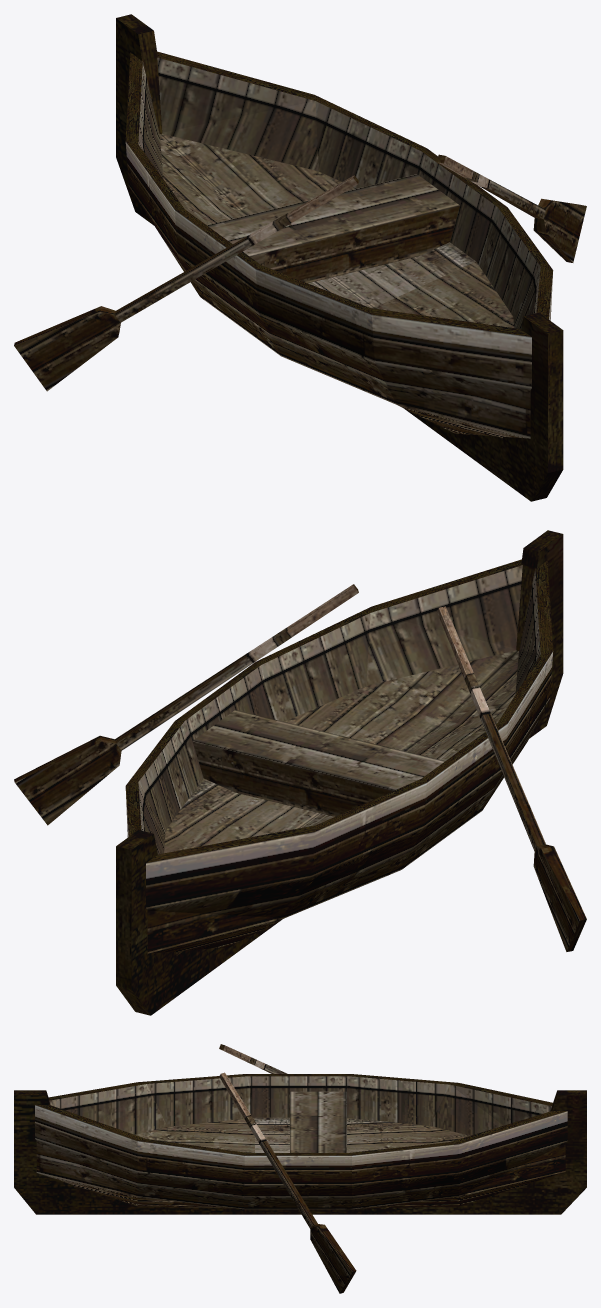
The model's file is celt_rowboat.dae.
3 views of the same model, one above another, from view 1: azimuth 30°, elevation 25°; view 2: azimuth 150°, elevation 25°; view 3: azimuth 270°, elevation 25° (orthographic). The views are drawn at different scales.
Visible parts, largest first — view 1: Cube; view 2: Cube; view 3: Cube.
Part boxes in pixels (x1,y1,x2,y2): Cube: (14,14,586,501); Cube: (14,530,586,1015); Cube: (14,1044,586,1293).
Size of the model in its own units: 8.29 by 3.19 by 10.83.
